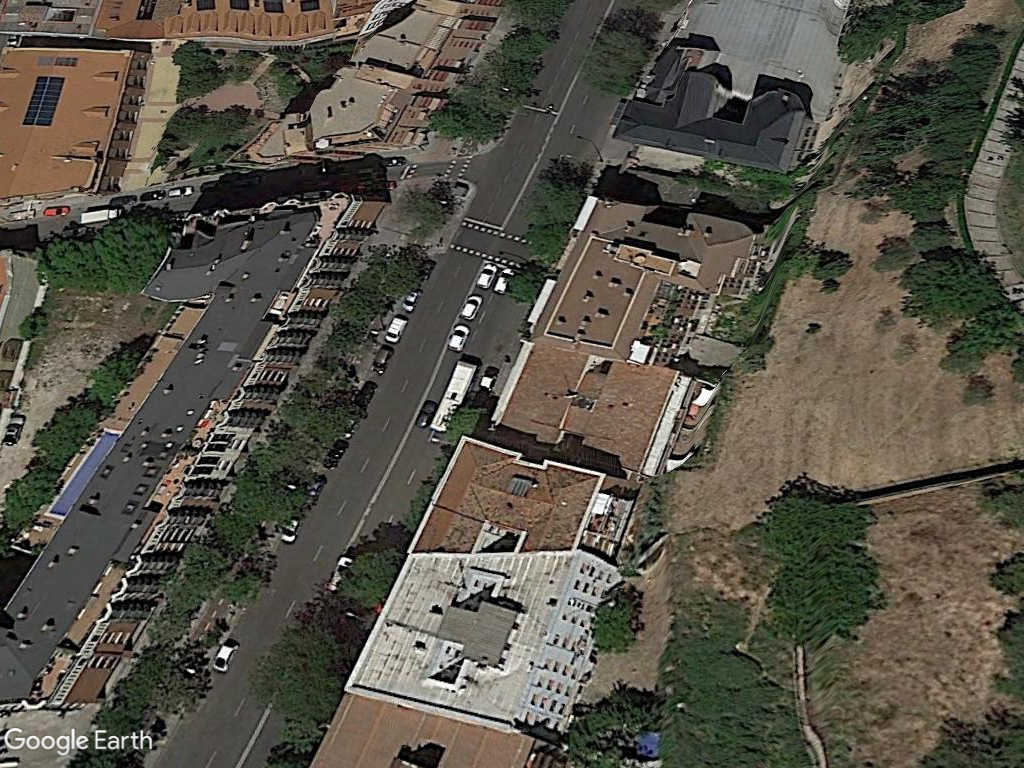car: (445, 320, 474, 355), (458, 291, 486, 324), (474, 256, 497, 293)
truck: (77, 206, 127, 229)
van: (385, 312, 410, 345)
